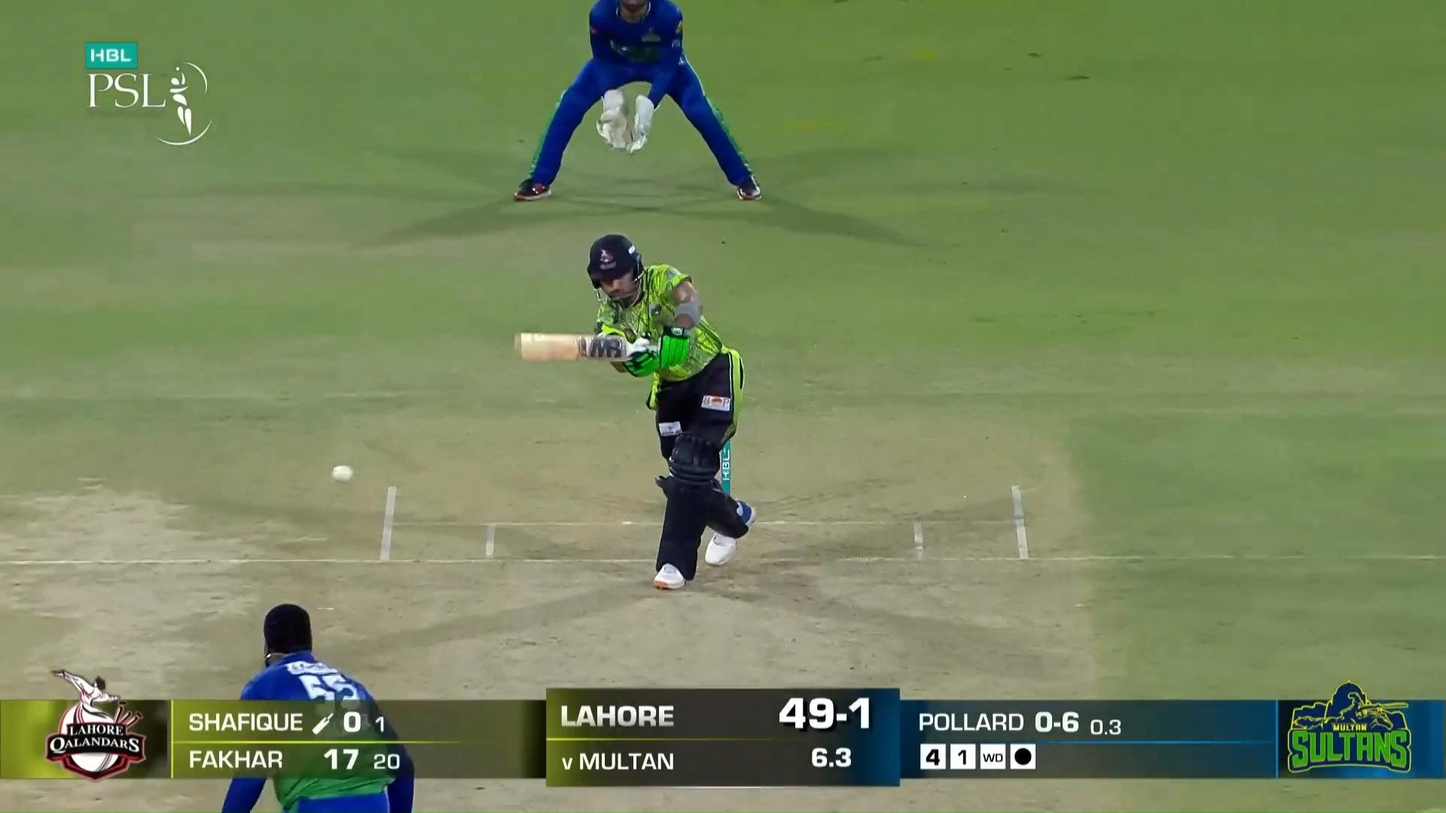batsman: (514, 233, 757, 590)
